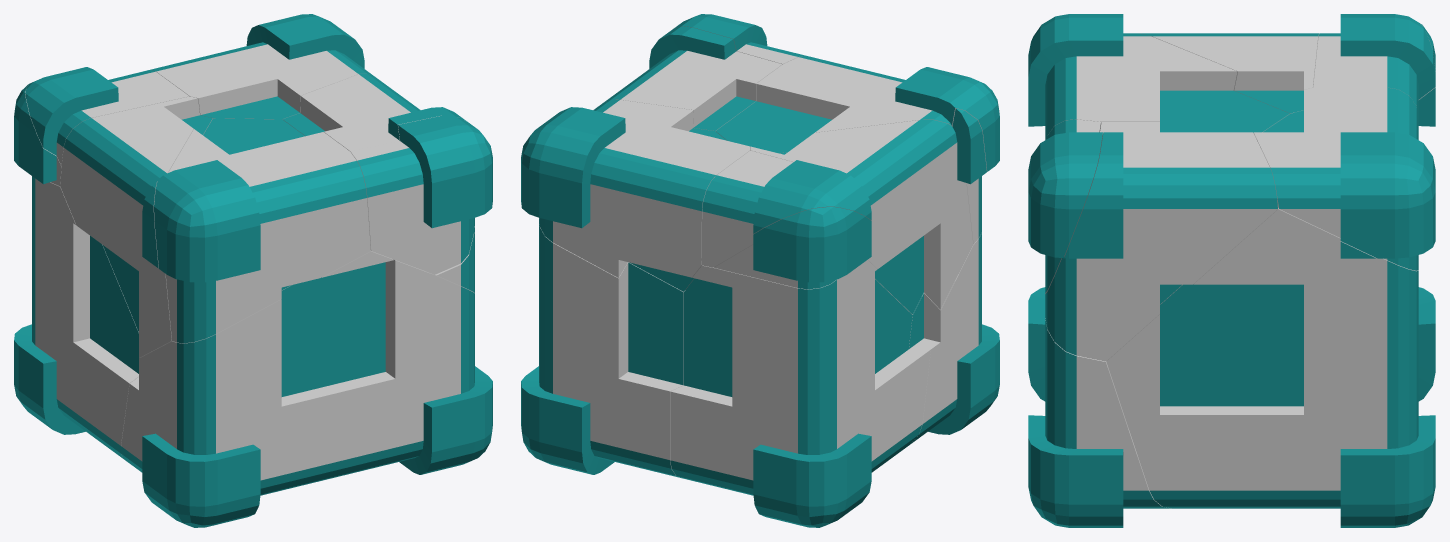
The model's file is block_cells (1).fbx.
3 views of the same model, side by side, from view 1: azimuth 30°, elevation 25°; view 2: azimuth 150°, elevation 25°; view 3: azimuth 270°, elevation 25° (orthographic). The views are drawn at different scales.
Visible parts, largest first — view 1: block.001_cell.006, block.001_cell.001, block.001_cell, block.001_cell.004, block.001_cell.007, block.001_cell.002, block.001_cell.005, block.001_cell.003, block.001_cell.009; view 2: block.001_cell, block.001_cell.008, block.001_cell.002, block.001_cell.004, block.001_cell.001, block.001_cell.006, block.001_cell.003, block.001_cell.005, block.001_cell.009, block.001_cell.007; view 3: block.001_cell.008, block.001_cell.005, block.001_cell.002, block.001_cell.001, block.001_cell.006, block.001_cell.003, block.001_cell.007, block.001_cell.004, block.001_cell, block.001_cell.009.
Part boxes in pixels (x1,y1,x2,y2): block.001_cell.006: [121, 251, 492, 527]; block.001_cell.001: [154, 118, 370, 343]; block.001_cell: [14, 176, 138, 458]; block.001_cell.004: [60, 96, 212, 357]; block.001_cell.007: [350, 115, 492, 274]; block.001_cell.002: [151, 14, 372, 119]; block.001_cell.005: [283, 73, 474, 292]; block.001_cell.003: [25, 67, 189, 165]; block.001_cell.009: [14, 83, 61, 186]; block.001_cell: [670, 260, 930, 527]; block.001_cell.008: [521, 218, 685, 478]; block.001_cell.002: [521, 99, 749, 291]; block.001_cell.004: [750, 108, 986, 314]; block.001_cell.001: [715, 55, 999, 244]; block.001_cell.006: [909, 233, 999, 443]; block.001_cell.003: [701, 150, 871, 267]; block.001_cell.005: [601, 26, 782, 131]; block.001_cell.009: [714, 207, 871, 289]; block.001_cell.007: [673, 14, 804, 64]; block.001_cell.008: [1106, 208, 1435, 527]; block.001_cell.005: [1045, 122, 1277, 361]; block.001_cell.002: [1253, 87, 1435, 270]; block.001_cell.001: [1028, 14, 1289, 139]; block.001_cell.006: [1028, 287, 1171, 527]; block.001_cell.003: [1313, 14, 1435, 115]; block.001_cell.007: [1028, 119, 1102, 292]; block.001_cell.004: [1140, 33, 1319, 113]; block.001_cell: [1418, 287, 1435, 401]; block.001_cell.009: [1418, 23, 1435, 126].
Bounding box in the file's own units: 200 × 200 × 200.
